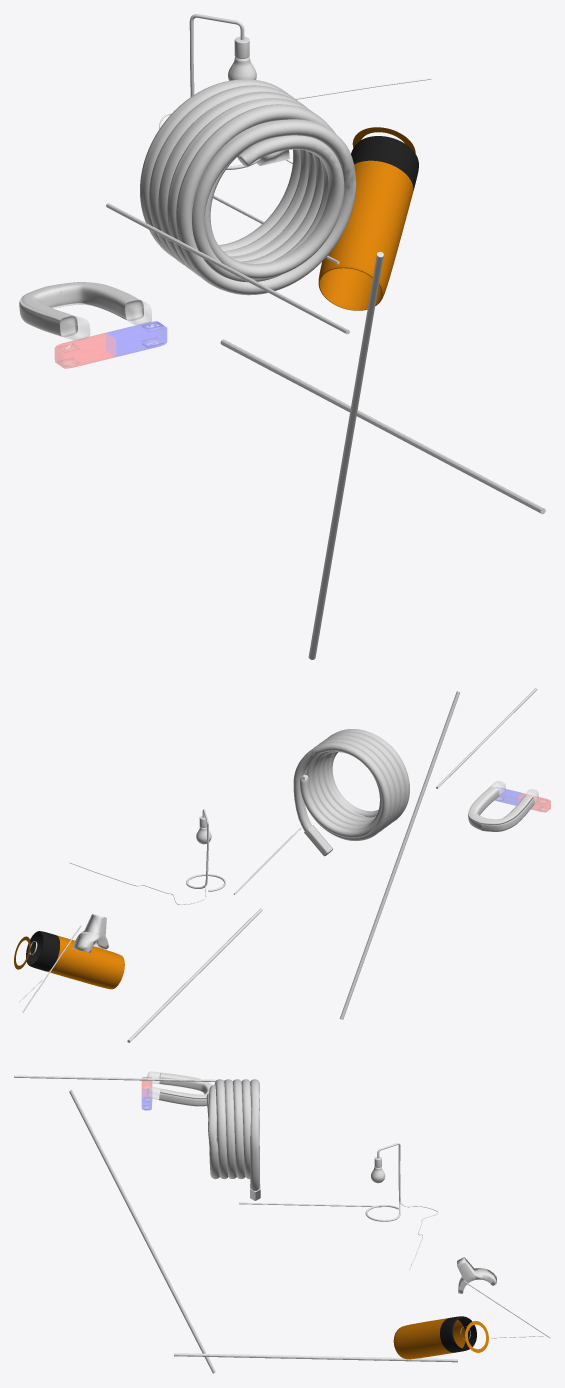
Rendered from electromagnetic_induction.glb.
3 renders of one model, top to bottom at view 1: azimuth 30°, elevation 25°; view 2: azimuth 150°, elevation 25°; view 3: azimuth 270°, elevation 25°, orthographic. The views are drawn at different scales.
Visible parts, largest first — view 1: Cylinder.041, magnet.obj; view 2: Cylinder.041, magnet.obj; view 3: Cylinder.041, magnet.obj.
Boxes of the visible parts, bbox=[...] form: Cylinder.041: bbox=[106, 14, 545, 659]; magnet.obj: bbox=[19, 282, 166, 368]; Cylinder.041: bbox=[14, 688, 537, 1042]; magnet.obj: bbox=[468, 781, 550, 831]; Cylinder.041: bbox=[14, 1075, 550, 1373]; magnet.obj: bbox=[142, 1071, 212, 1110].
Size of the model in its own units: 9.38 by 7.37 by 12.88.
